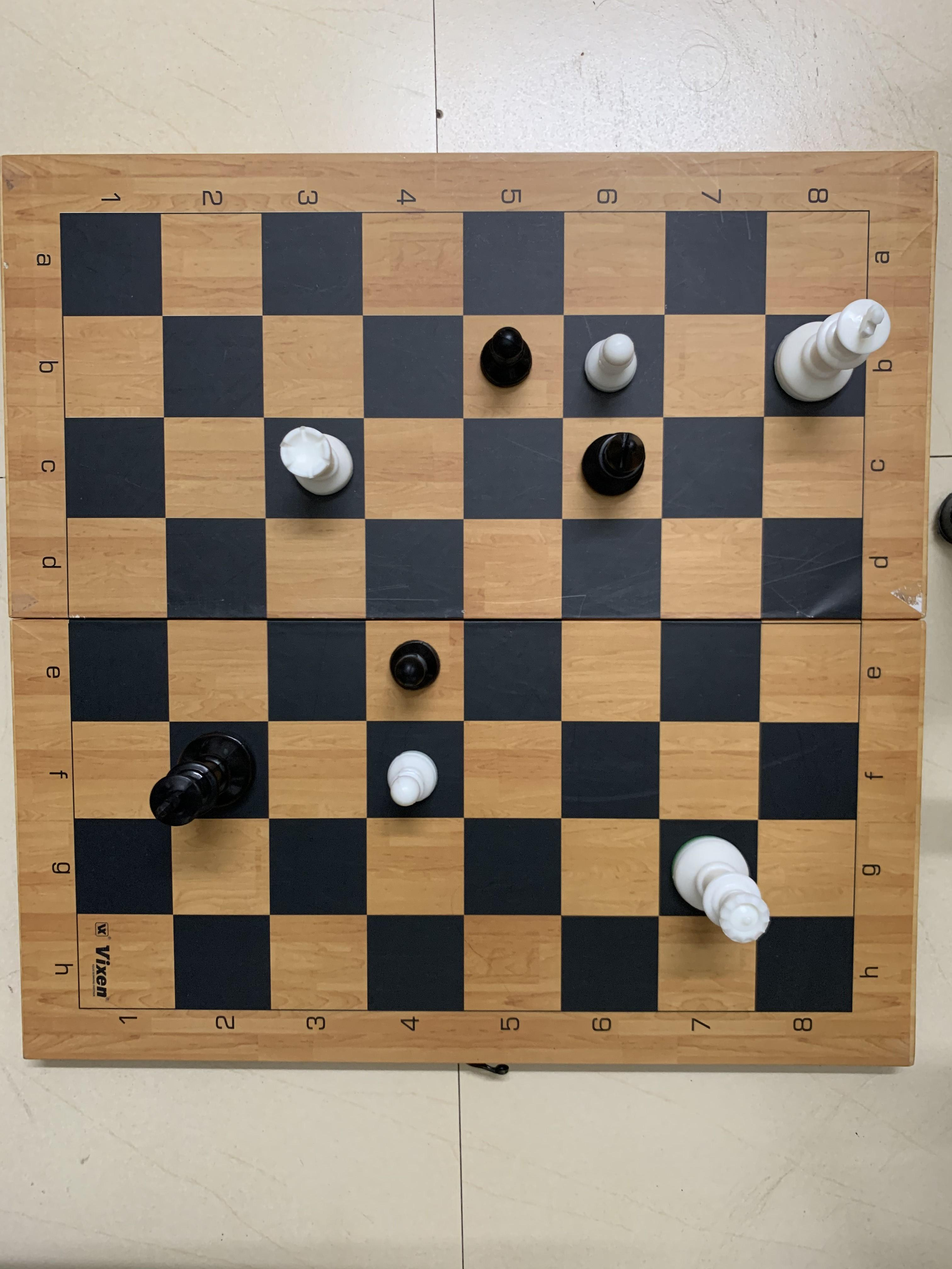black_bishop: (564, 417, 671, 523)
black_king: (135, 726, 260, 836)
black_pawn: (466, 323, 566, 415), (368, 630, 446, 712)
white_king: (770, 288, 901, 407)
white_pawn: (575, 323, 655, 421), (368, 718, 450, 812)
white_queen: (663, 814, 781, 961)
white_rook: (271, 420, 357, 514)
